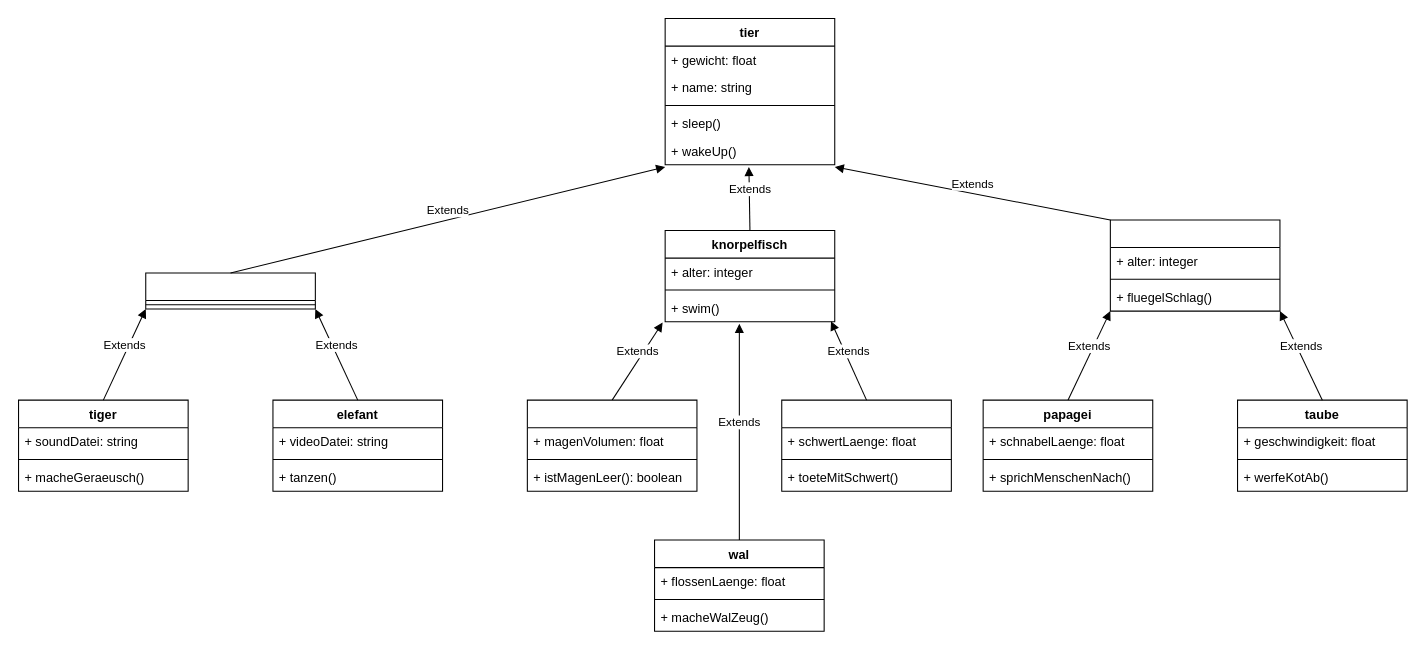
The diagram is 1426 pixels wide and 653 high, and some of its shapes have lost their labels. The box of each missing label's shape, as (x1, y1, x2, y2) in pixels:
hai: (526, 399, 697, 491)
hecht: (781, 399, 951, 491)
saeugetiere: (145, 272, 315, 309)
voegel: (1109, 219, 1280, 311)
